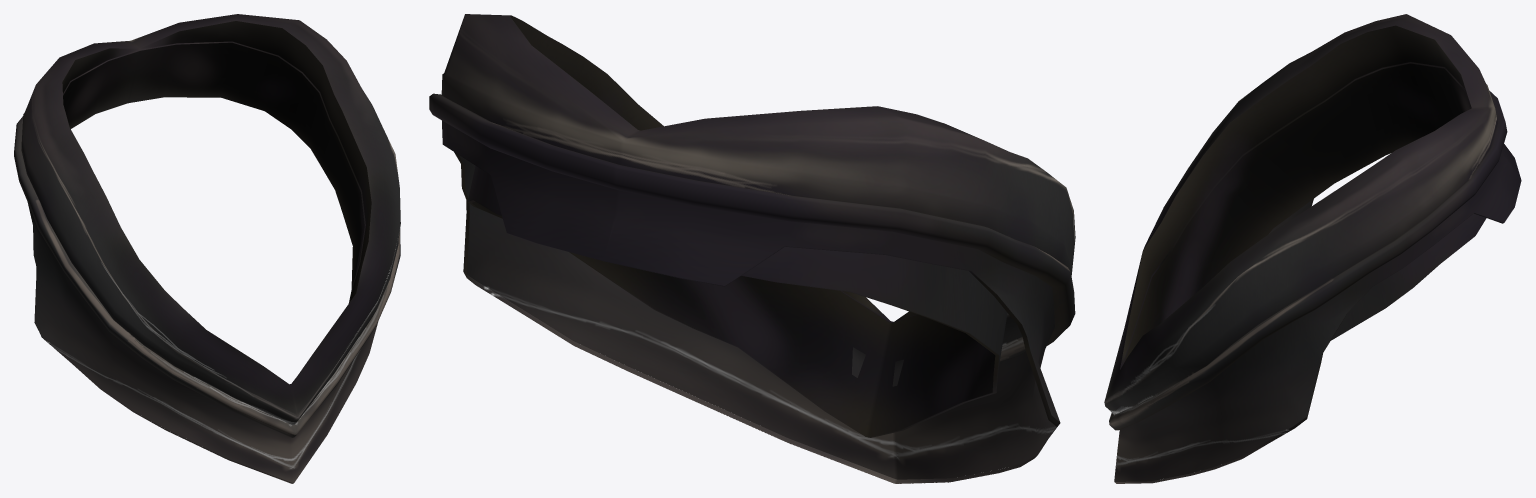
File: sm_yun_scortched_chest_add.gltf
3 renders of one model, left to right at view 1: azimuth 30°, elevation 25°; view 2: azimuth 150°, elevation 25°; view 3: azimuth 270°, elevation 25°, orthographic. The views are drawn at different scales.
Parts seen in each view (by area): view 1: sm_human_scortched_chest_add; view 2: sm_human_scortched_chest_add; view 3: sm_human_scortched_chest_add.
Boxes of the visible parts, x1,y1,x2,y2 form: sm_human_scortched_chest_add: [14, 14, 400, 483]; sm_human_scortched_chest_add: [429, 14, 1075, 483]; sm_human_scortched_chest_add: [1104, 14, 1521, 483].
Size of the model in its own units: 33.49 by 31.18 by 29.59.
1 material, 1 textured.
